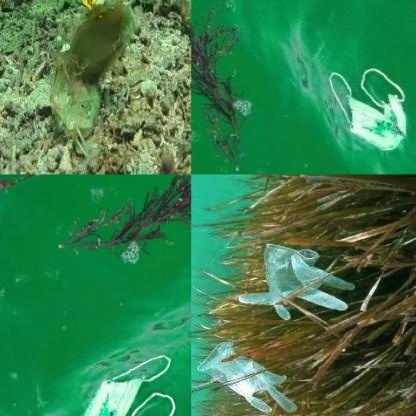Mask: (50, 0, 163, 159), (78, 345, 176, 415), (326, 65, 404, 152)
glove: (232, 238, 356, 323), (192, 339, 294, 415)
